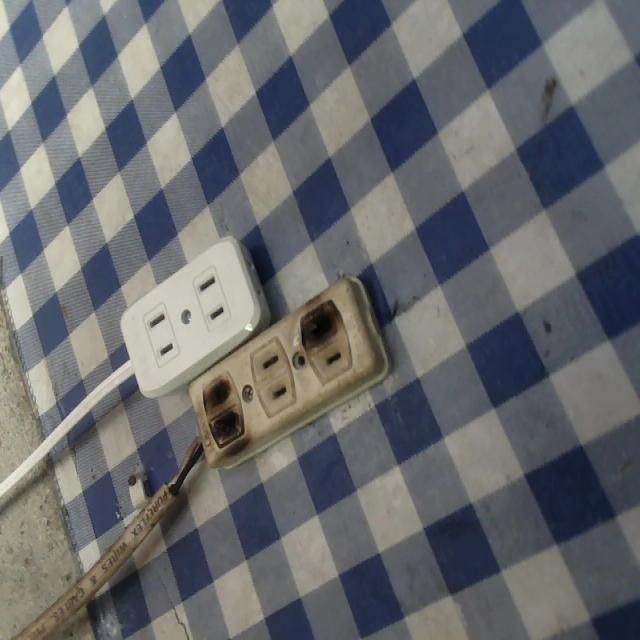-: (198, 374, 251, 454), (298, 298, 342, 350)
